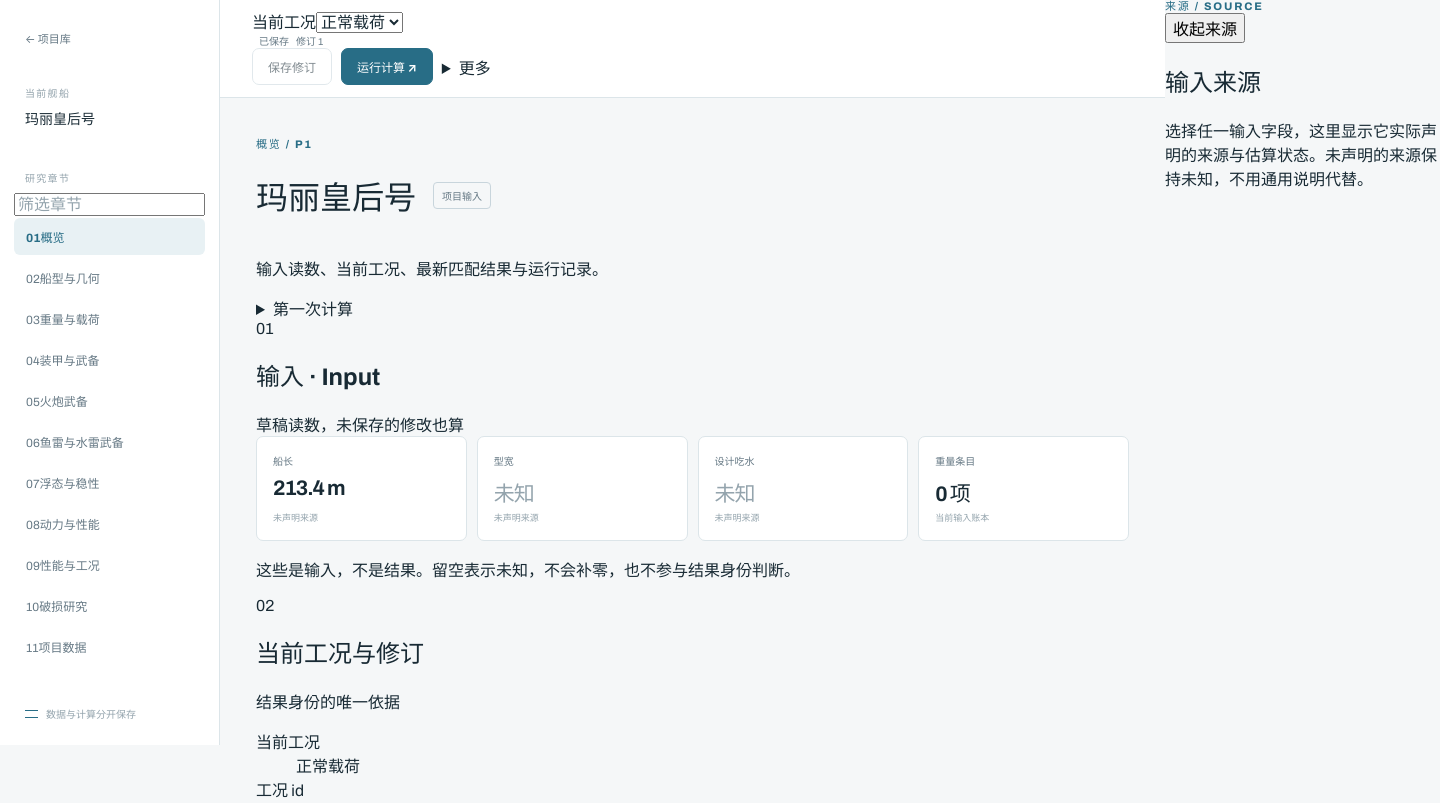
guns battery form › renders the backend aggregate, not a local recomputation
Step 1. Click the button "05火炮武备" → [110, 400], box top-left (14, 382), bottom-right (205, 419)
(page scrolled)
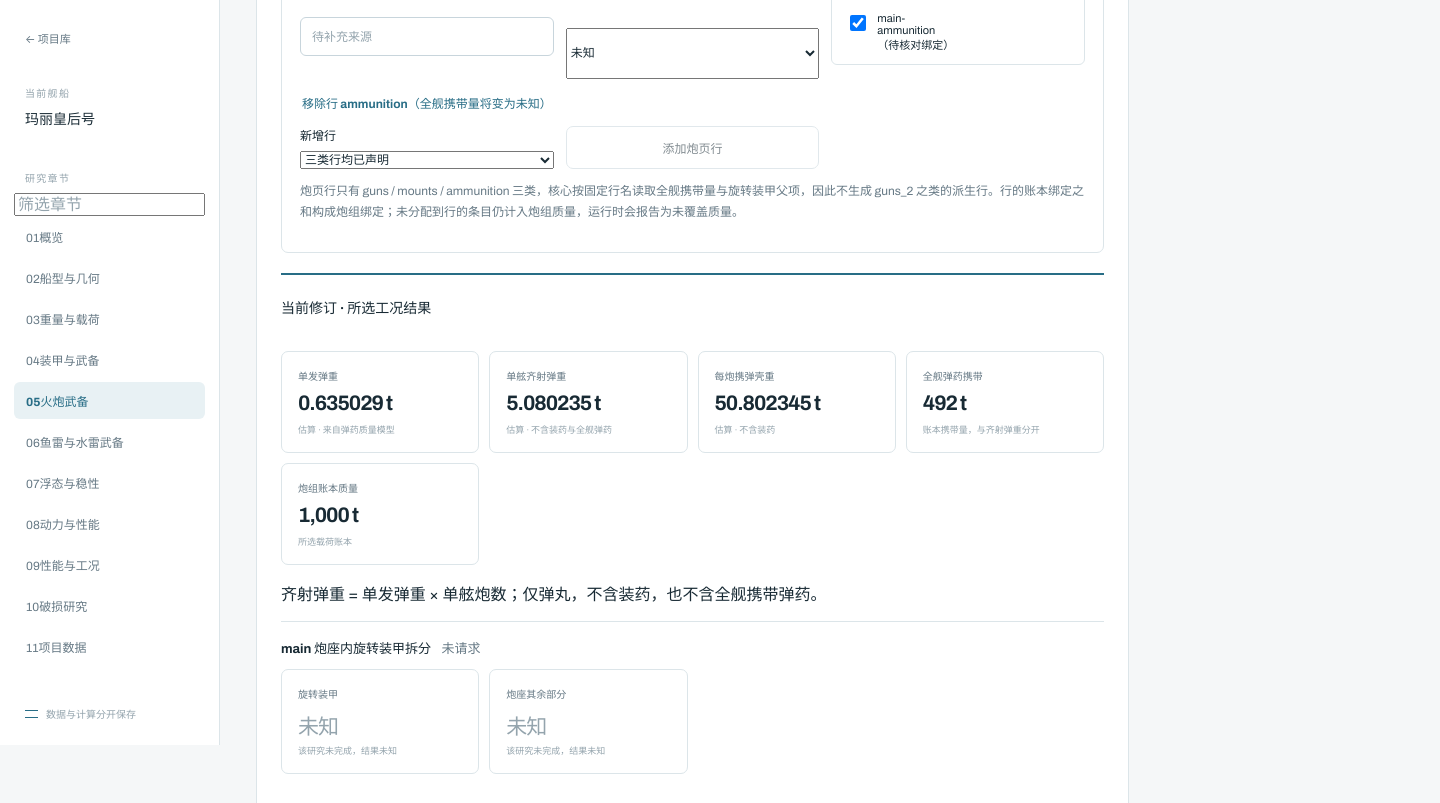
Result: the text "5.080235 t" is shown at top-left (506, 392), bottom-right (600, 414)
Result: the text "50.802345 t" is shown at top-left (714, 392), bottom-right (820, 414)
Result: the text "492 t" is shown at top-left (923, 392), bottom-right (966, 414)
